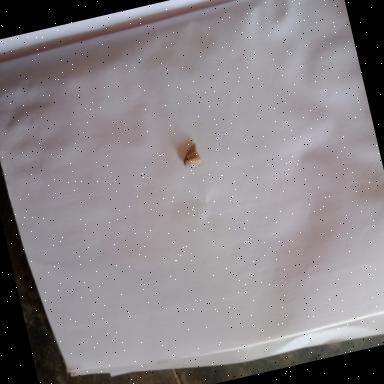pbw: (180, 142, 202, 170)
